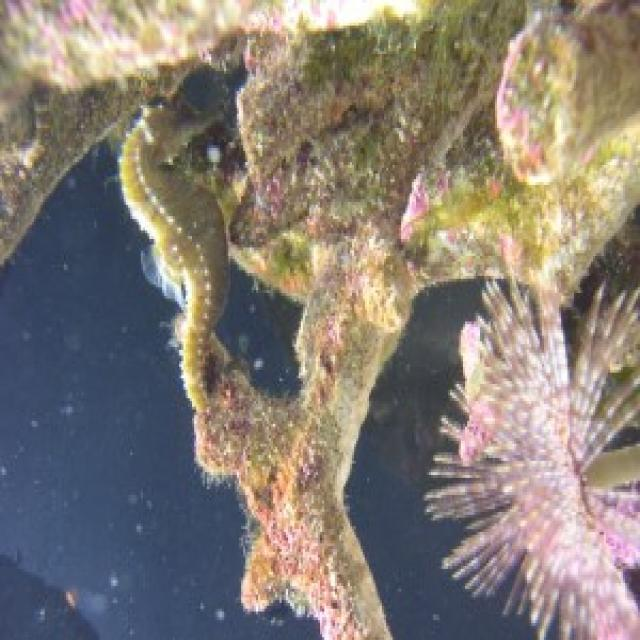Seahorse: (119, 99, 249, 418)
